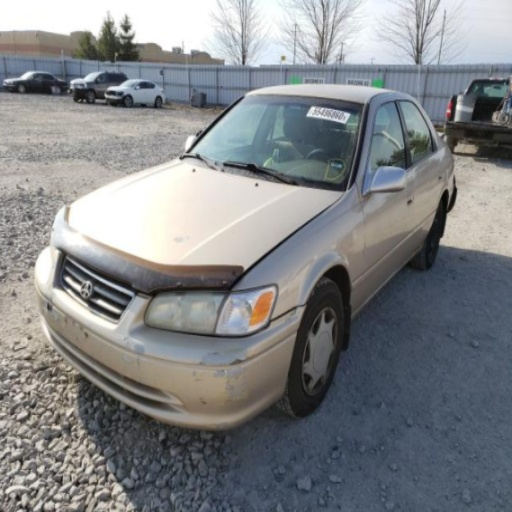dent: (40, 299, 48, 311)
rust: (65, 202, 242, 285)
scratch: (213, 367, 245, 378), (229, 385, 247, 396), (135, 345, 144, 354), (122, 354, 132, 362), (224, 383, 230, 390), (125, 342, 130, 348), (226, 400, 233, 404)
